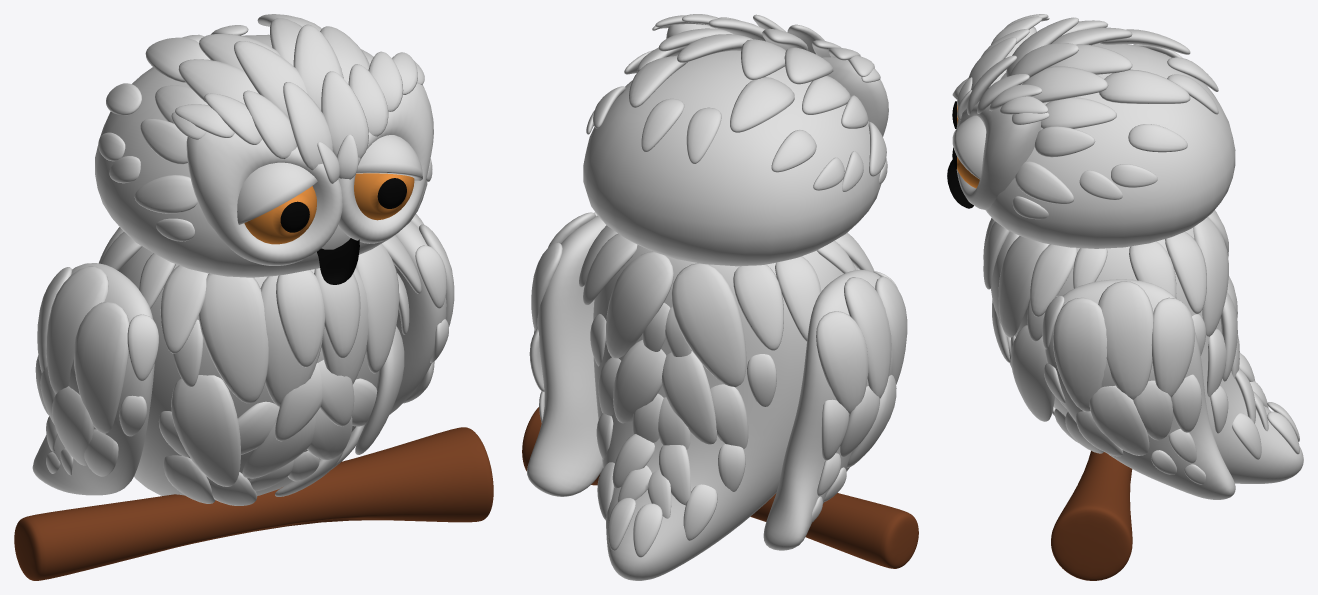
File: owl.glb
The picture shows the model from 3 angles, left to right: view 1: azimuth 30°, elevation 25°; view 2: azimuth 150°, elevation 25°; view 3: azimuth 270°, elevation 25°; orthographic projection. The views are drawn at different scales.
Visible parts, largest first — view 1: Branch, EyeSockets, Head, Plane.019, Wings, Plane.023, Plane.032, Body, Plane.031, Plane.001, EyeLids, Plane.007 (+34 smaller); view 2: Head, Wings, Body, Plane.045, Branch, Plane.046, Plane.034, Plane.049, Plane.012, Plane.033, Plane.056, Plane.050 (+29 smaller); view 3: Head, Branch, Wings, Body, Plane.033, Plane.032, EyeSockets, Plane.034, Plane.012, Plane.019, Plane.045, Plane.037 (+38 smaller).
Boxes of the visible parts, left/top/right/bottom form: Branch: left=14, top=427, right=493, bottom=580; EyeSockets: left=186, top=83, right=433, bottom=265; Head: left=95, top=34, right=427, bottom=277; Plane.019: left=198, top=243, right=399, bottom=403; Wings: left=32, top=221, right=446, bottom=495; Plane.023: left=171, top=326, right=404, bottom=486; Plane.032: left=74, top=224, right=454, bottom=433; Body: left=119, top=246, right=396, bottom=495; Plane.031: left=276, top=268, right=360, bottom=367; Plane.001: left=283, top=71, right=368, bottom=170; EyeLids: left=237, top=135, right=422, bottom=224; Plane.007: left=234, top=24, right=343, bottom=118; Head: left=583, top=50, right=881, bottom=266; Wings: left=527, top=215, right=893, bottom=550; Body: left=593, top=244, right=843, bottom=580; Plane.045: left=606, top=251, right=746, bottom=386; Branch: left=522, top=407, right=918, bottom=568; Plane.046: left=613, top=339, right=716, bottom=444; Plane.034: left=531, top=242, right=868, bottom=414; Plane.049: left=583, top=233, right=783, bottom=350; Plane.012: left=629, top=56, right=794, bottom=132; Plane.033: left=548, top=212, right=891, bottom=398; Plane.056: left=579, top=225, right=821, bottom=341; Plane.050: left=598, top=357, right=748, bottom=448; Head: left=985, top=43, right=1235, bottom=248; Branch: left=1051, top=451, right=1132, bottom=580; Wings: left=1045, top=279, right=1235, bottom=499; Body: left=1014, top=228, right=1303, bottom=483; Plane.033: left=1098, top=281, right=1153, bottom=399; Plane.032: left=1053, top=297, right=1106, bottom=411; EyeSockets: left=956, top=26, right=1041, bottom=210; Plane.034: left=1152, top=297, right=1194, bottom=397; Plane.012: left=1099, top=29, right=1190, bottom=103; Plane.019: left=998, top=236, right=1049, bottom=337; Plane.045: left=1193, top=210, right=1228, bottom=336; Plane.037: left=1089, top=385, right=1149, bottom=455.
Size of what is drawn, in the model's own units: 4.16 by 4.99 by 3.49.
